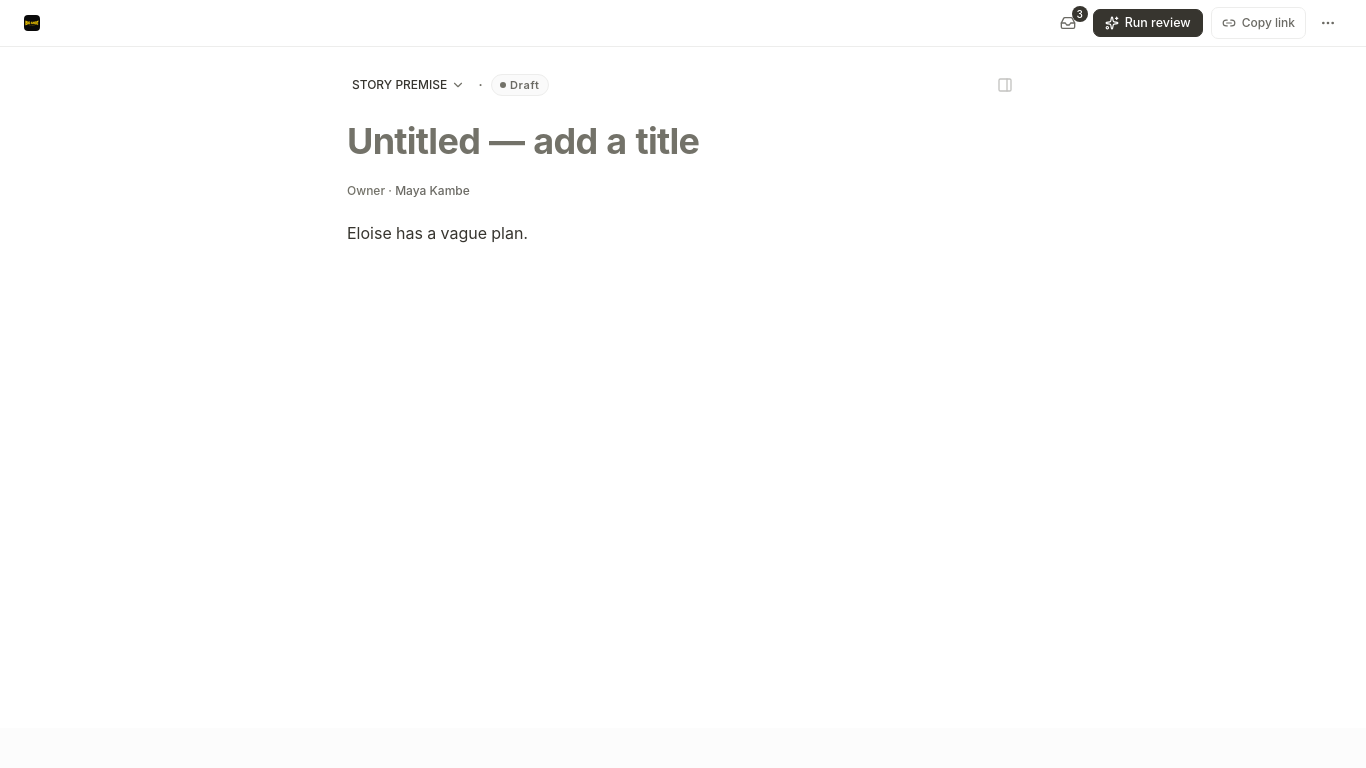
Scenario: DocumentPage apply (AI rewrite) — accept / discard › Accept keeps the rewrite and clears the decision bar
Click the button "Run review": x=1148, y=23 [1093,9,1203,37]
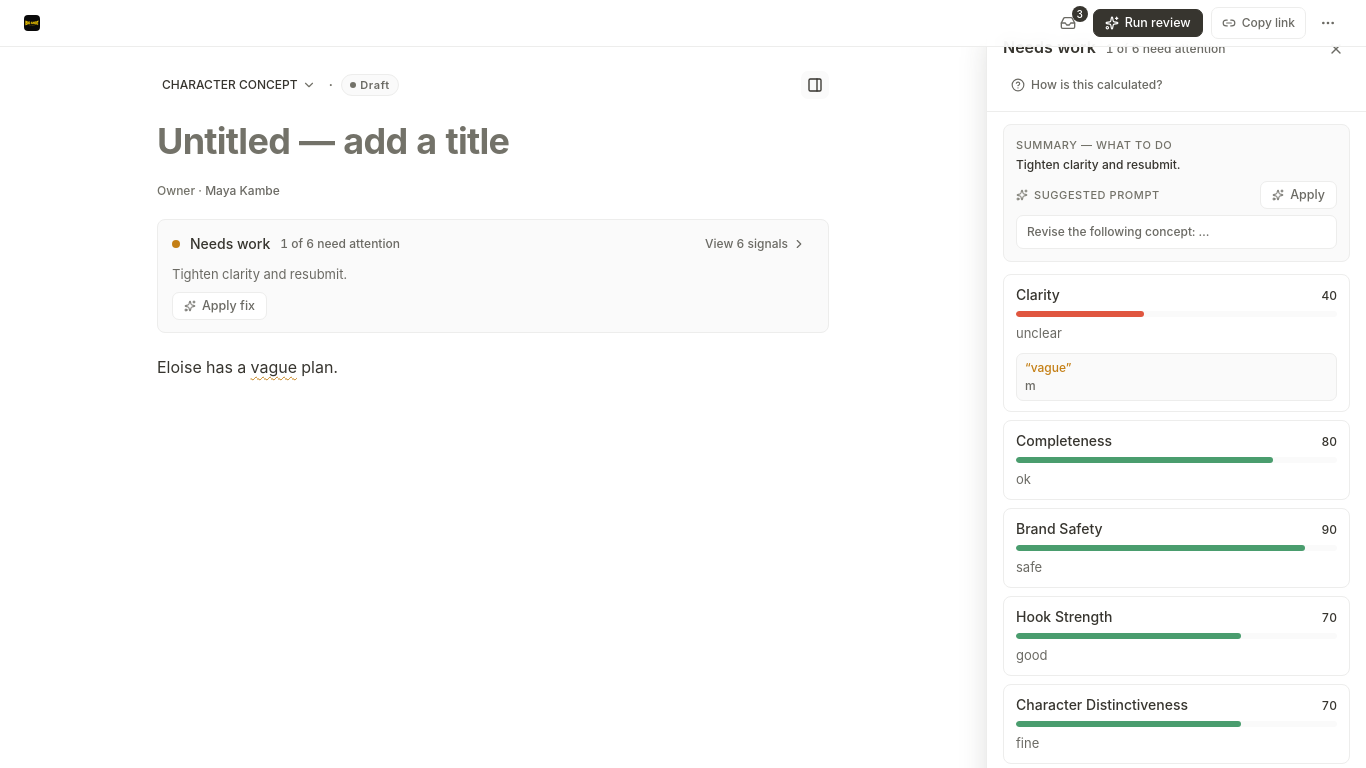
Click the button with aria-label "apply suggested prompt": x=1299, y=195 [1260,181,1337,209]
(page scrolled)
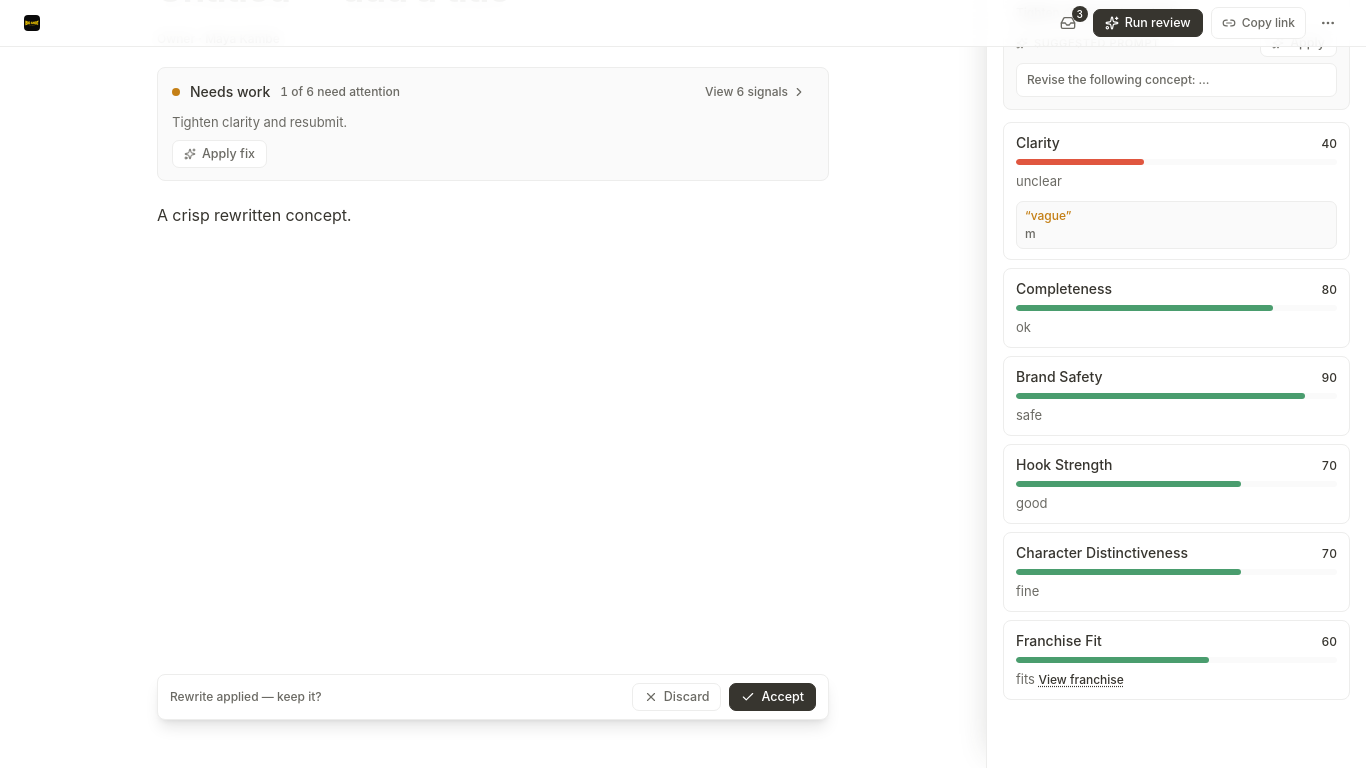
Click the button "Accept": x=773, y=697 [730,683,816,711]
(page scrolled)
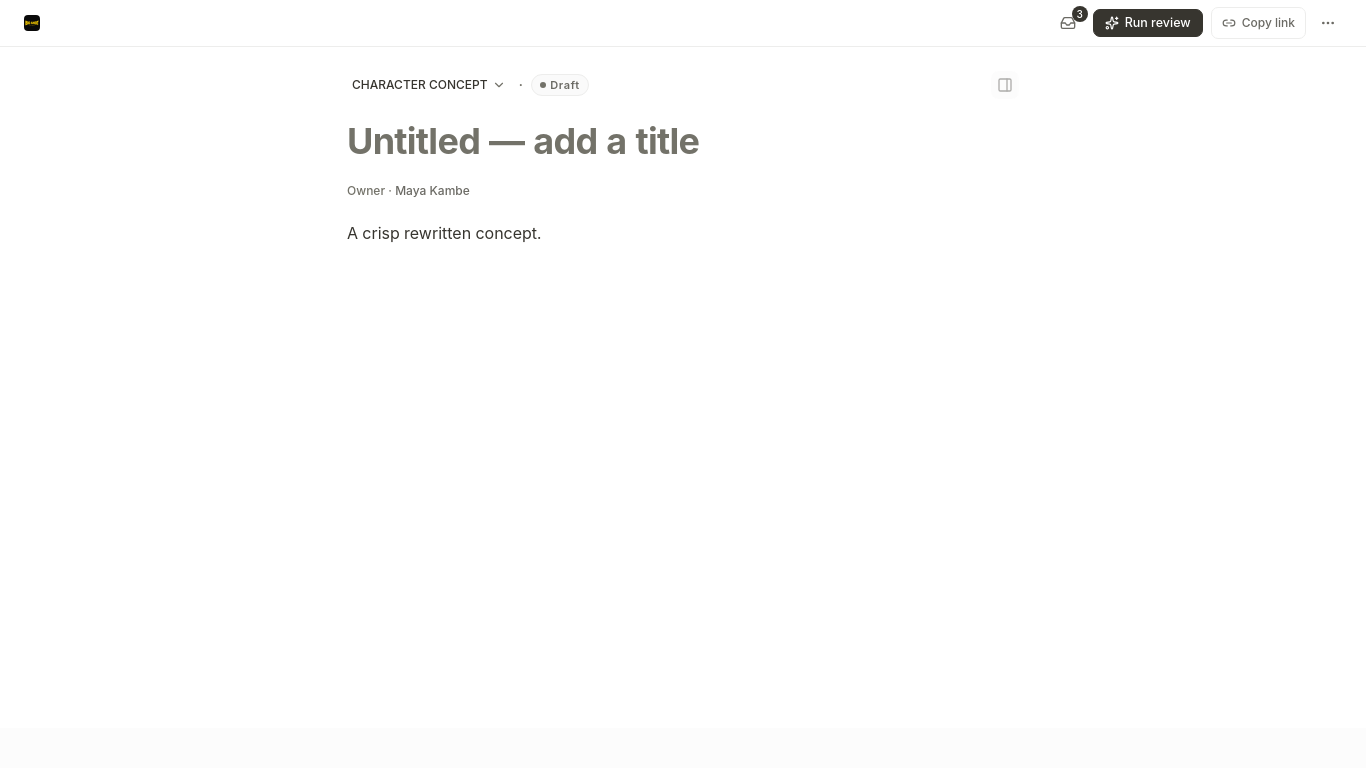
Now the button "Accept" is gone
Now the button "Discard" is gone
